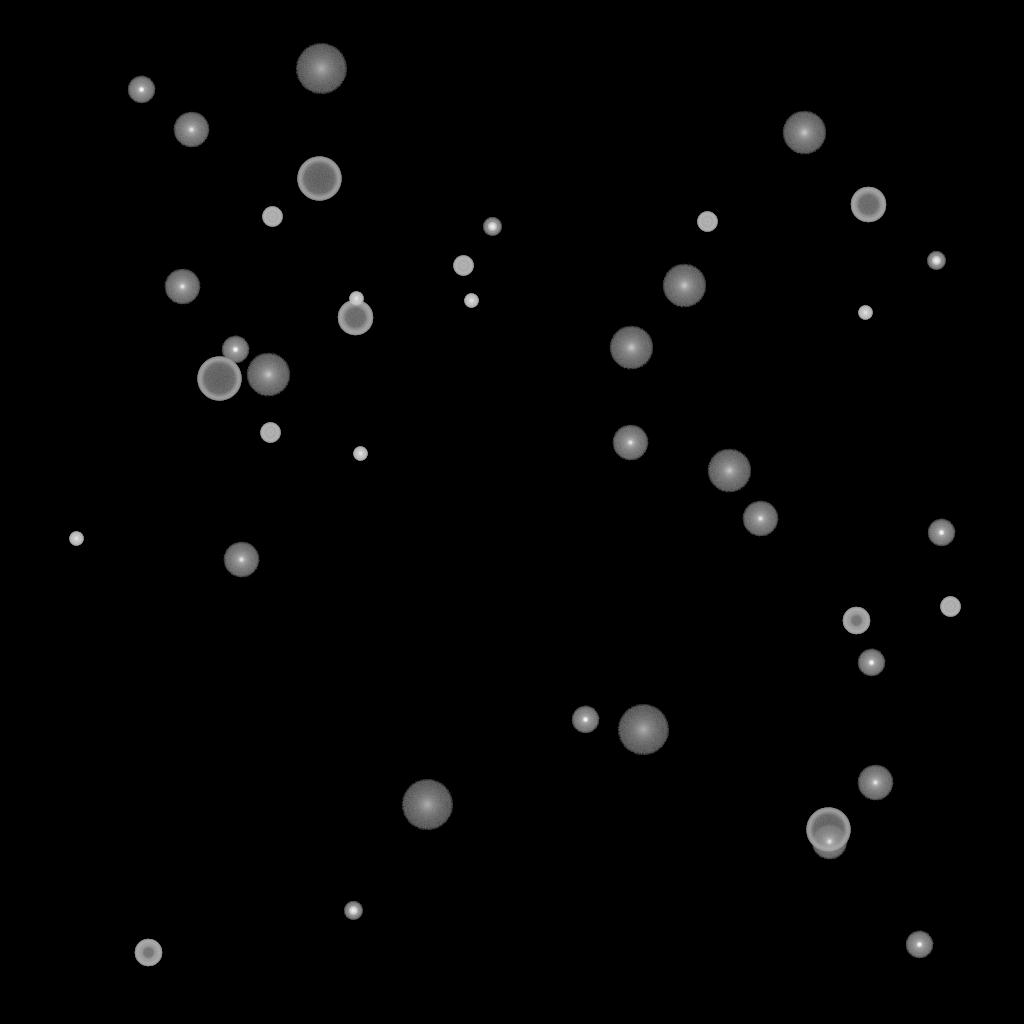depth:-10: (857, 649, 885, 677), (927, 519, 955, 547), (221, 336, 249, 364), (127, 76, 155, 104), (905, 931, 933, 959), (571, 706, 599, 734)
depth:-20: (483, 218, 501, 236), (344, 902, 362, 920), (927, 252, 945, 270)
depth:-30: (349, 292, 363, 306), (353, 447, 367, 461), (858, 306, 872, 320), (464, 294, 478, 308), (69, 532, 83, 546)
depth:-40: (940, 597, 960, 617), (260, 423, 280, 443), (697, 212, 717, 232), (453, 256, 473, 276), (262, 207, 282, 227)
depth:-50: (842, 607, 870, 635), (134, 939, 162, 967)
depth:-60: (337, 300, 373, 336), (850, 187, 886, 223)
depth:-70: (197, 357, 241, 401), (297, 157, 341, 201), (806, 808, 850, 852)
depth:0: (811, 824, 847, 860), (742, 501, 778, 537), (173, 112, 209, 148), (223, 542, 259, 578), (612, 425, 648, 461), (857, 765, 893, 801), (164, 269, 200, 305)
depth:10: (782, 111, 826, 155), (707, 449, 751, 493), (246, 353, 290, 397), (609, 326, 653, 370), (662, 264, 706, 308)
depth:20: (295, 44, 347, 94), (617, 705, 669, 755), (401, 780, 453, 830)
